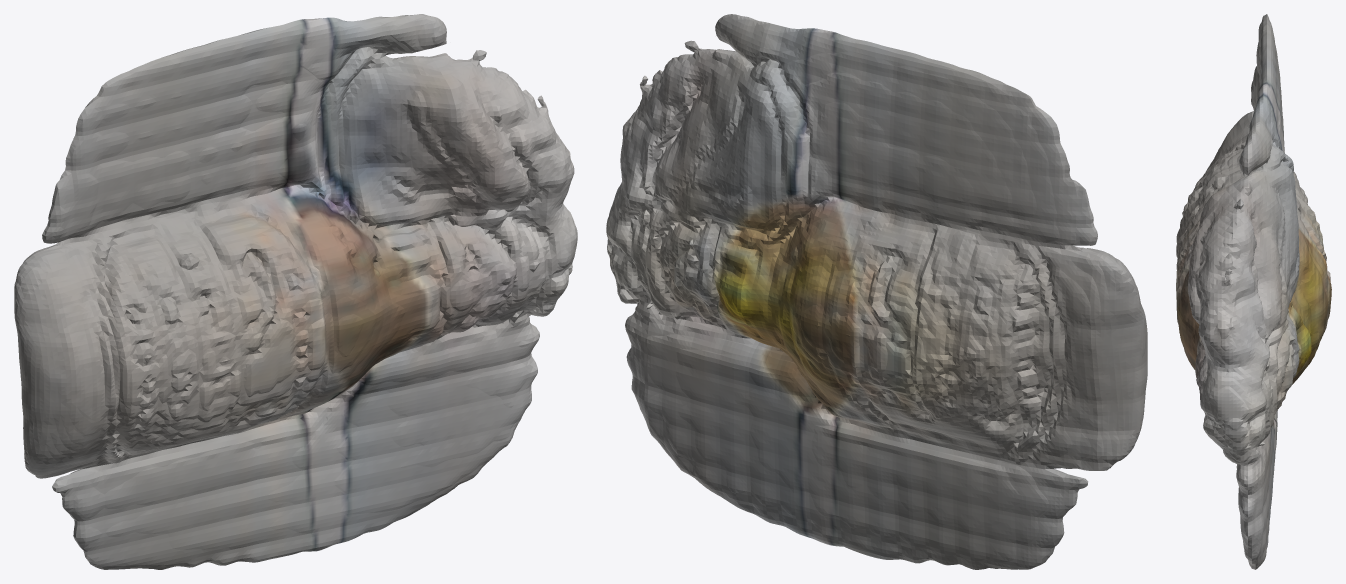
Rendered from gen_dc60806c.glb.
The picture shows the model from 3 angles, left to right: view 1: azimuth 30°, elevation 25°; view 2: azimuth 150°, elevation 25°; view 3: azimuth 270°, elevation 25°; orthographic projection. The views are drawn at different scales.
Visible parts, largest first — view 1: world; view 2: world; view 3: world.
Boxes of the visible parts, x1=… form: world: x1=14, y1=14, x2=577, y2=569; world: x1=606, y1=14, x2=1147, y2=569; world: x1=1176, y1=14, x2=1331, y2=569.
Size of the model in its own units: 0.9687 by 0.8947 by 0.2801.
